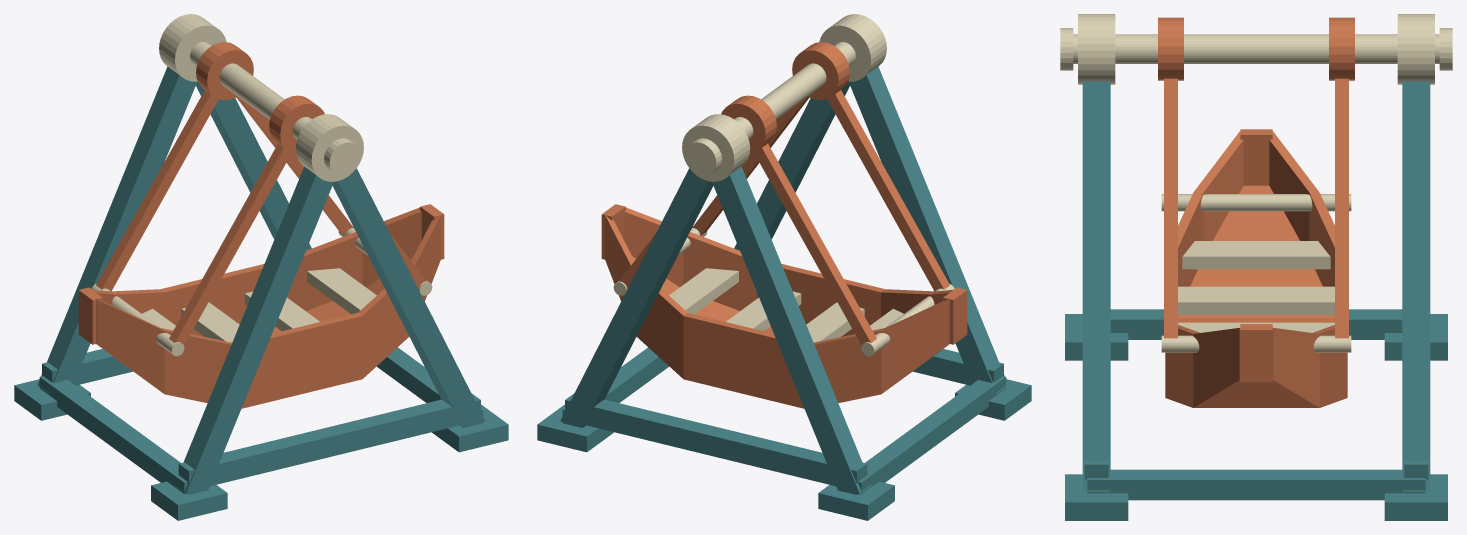
The picture shows the model from 3 angles, left to right: view 1: azimuth 30°, elevation 25°; view 2: azimuth 150°, elevation 25°; view 3: azimuth 270°, elevation 25°; orthographic projection. The views are drawn at different scales.
Parts seen in each view (by area): view 1: WholeRisingBowAndSternThickBoatShell, FrontLeftWholeAFrameLeg, BackLeftWholeAFrameLeg, FrontRightWholeAFrameLeg, FrontWholeLowFrameTie, LeftWholeGroundCrossTie, FrontBowWholeRigidSuspensionArm, BackBowWholeRigidSuspensionArm, BackRightWholeAFrameLeg, BackWholeBoredUpperBearing, FrontWholeBoredUpperBearing, WholeContinuousUpperAxle (+15 smaller); view 2: WholeRisingBowAndSternThickBoatShell, BackLeftWholeAFrameLeg, FrontLeftWholeAFrameLeg, BackRightWholeAFrameLeg, BackWholeLowFrameTie, LeftWholeGroundCrossTie, BackBowWholeRigidSuspensionArm, FrontBowWholeRigidSuspensionArm, FrontRightWholeAFrameLeg, FrontWholeBoredUpperBearing, BackWholeBoredUpperBearing, WholeContinuousUpperAxle (+15 smaller); view 3: WholeRisingBowAndSternThickBoatShell, FrontRightWholeAFrameLeg, BackRightWholeAFrameLeg, RightWholeGroundCrossTie, WholeContinuousUpperAxle, WholeTransverseBench_2, WholeTransverseBench_1, FrontSternWholeRigidSuspensionArm, BackSternWholeRigidSuspensionArm, LeftWholeGroundCrossTie, FrontWholeBoredUpperBearing, BackWholeBoredUpperBearing (+13 smaller).
Part boxes in pixels (left/top/right/bottom): WholeRisingBowAndSternThickBoatShell: left=93, top=207, right=440, bottom=408; FrontLeftWholeAFrameLeg: left=174, top=166, right=333, bottom=494; BackLeftWholeAFrameLeg: left=37, top=66, right=196, bottom=393; FrontRightWholeAFrameLeg: left=332, top=168, right=485, bottom=427; FrontWholeLowFrameTie: left=178, top=393, right=480, bottom=486; LeftWholeGroundCrossTie: left=39, top=376, right=187, bottom=494; FrontBowWholeRigidSuspensionArm: left=169, top=143, right=291, bottom=345; BackBowWholeRigidSuspensionArm: left=96, top=90, right=218, bottom=291; BackRightWholeAFrameLeg: left=196, top=81, right=311, bottom=250; BackWholeBoredUpperBearing: left=159, top=14, right=226, bottom=81; FrontWholeBoredUpperBearing: left=295, top=114, right=363, bottom=181; WholeContinuousUpperAxle: left=190, top=42, right=311, bottom=139; WholeRisingBowAndSternThickBoatShell: left=605, top=207, right=952, bottom=408; BackLeftWholeAFrameLeg: left=712, top=166, right=871, bottom=494; FrontLeftWholeAFrameLeg: left=849, top=66, right=1008, bottom=393; BackRightWholeAFrameLeg: left=560, top=168, right=713, bottom=427; BackWholeLowFrameTie: left=565, top=393, right=867, bottom=486; LeftWholeGroundCrossTie: left=858, top=376, right=1006, bottom=494; BackBowWholeRigidSuspensionArm: left=754, top=143, right=876, bottom=345; FrontBowWholeRigidSuspensionArm: left=827, top=90, right=949, bottom=291; FrontRightWholeAFrameLeg: left=734, top=81, right=849, bottom=250; FrontWholeBoredUpperBearing: left=819, top=14, right=886, bottom=81; BackWholeBoredUpperBearing: left=682, top=114, right=750, bottom=181; WholeContinuousUpperAxle: left=734, top=42, right=855, bottom=139; WholeRisingBowAndSternThickBoatShell: left=1165, top=131, right=1347, bottom=407; FrontRightWholeAFrameLeg: left=1082, top=81, right=1110, bottom=491; BackRightWholeAFrameLeg: left=1402, top=81, right=1430, bottom=491; RightWholeGroundCrossTie: left=1087, top=469, right=1425, bottom=500; WholeContinuousUpperAxle: left=1073, top=34, right=1439, bottom=63; WholeTransverseBench_2: left=1178, top=286, right=1334, bottom=314; WholeTransverseBench_1: left=1182, top=241, right=1330, bottom=269; FrontSternWholeRigidSuspensionArm: left=1164, top=78, right=1177, bottom=338; BackSternWholeRigidSuspensionArm: left=1335, top=78, right=1348, bottom=338; LeftWholeGroundCrossTie: left=1110, top=309, right=1402, bottom=339; FrontWholeBoredUpperBearing: left=1078, top=14, right=1115, bottom=84; BackWholeBoredUpperBearing: left=1397, top=14, right=1434, bottom=84.
Size of the model in its own units: 2.56 by 2.43 by 2.11.
